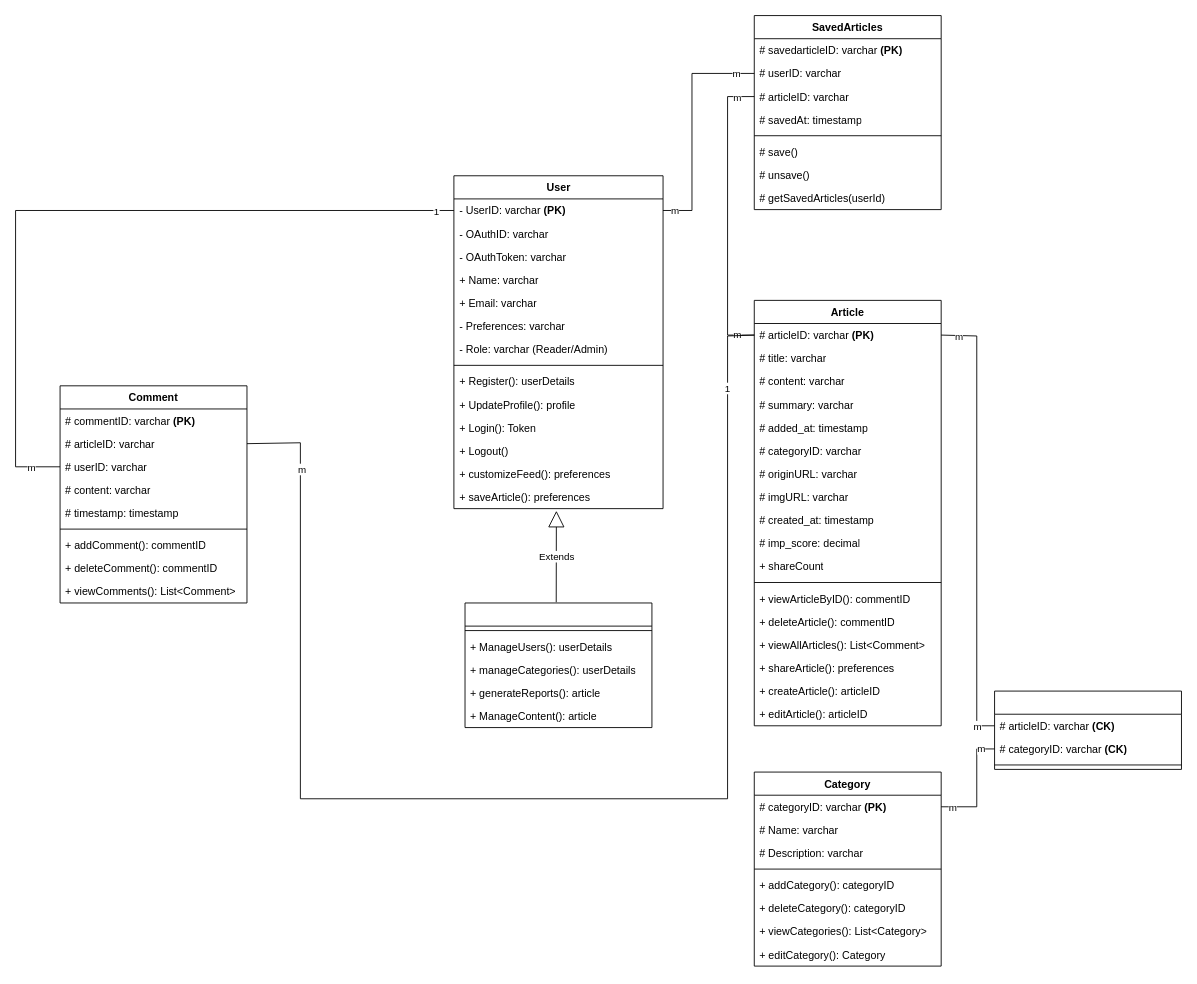
Image size: 1197x984. Some labels were removed from this diagram. The shapes that lost their labels are listed below. From the top down, each one's box as (x1, y1, x2, y2) in pixels, then its label:
(464, 602, 652, 728): Admin
(994, 690, 1181, 769): ArticleCategory
